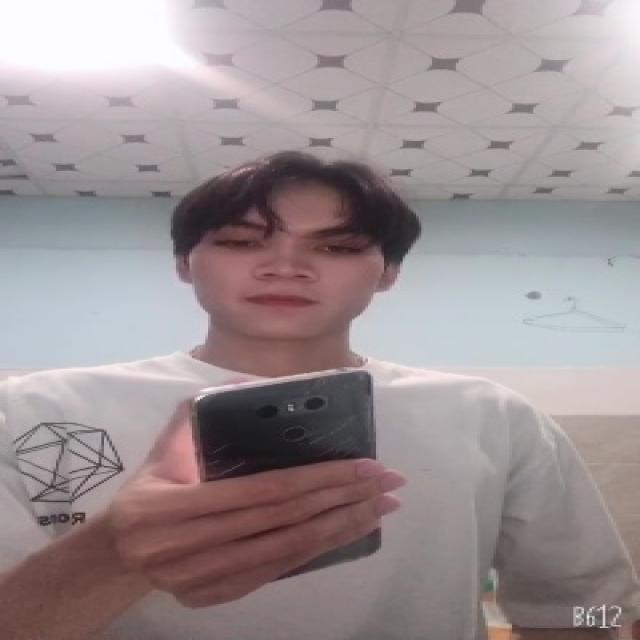Phone: (186, 366, 382, 580)
